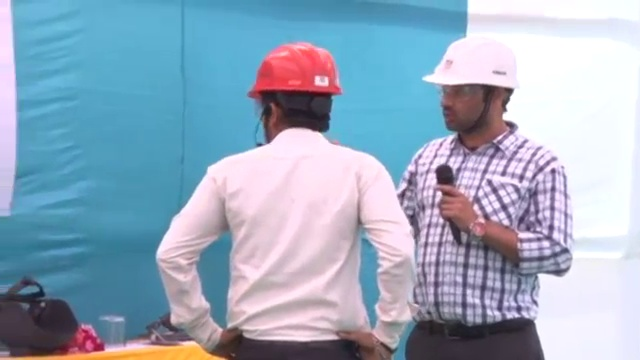helmet: (245, 41, 346, 101), (421, 34, 522, 92)
helmet_on: (420, 34, 525, 140), (244, 41, 348, 140)
person: (156, 40, 417, 359), (397, 34, 577, 360)
